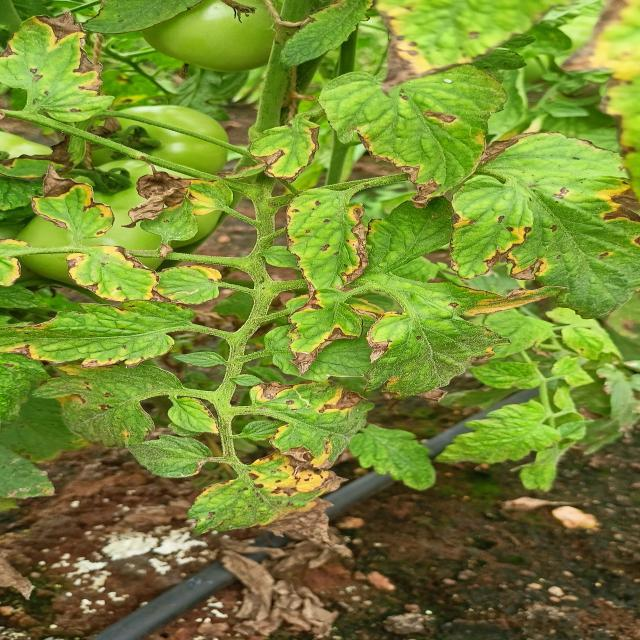Tomato mosaic virus leaf: (308, 61, 530, 205), (503, 127, 640, 325), (364, 282, 568, 406), (174, 455, 356, 561), (0, 5, 117, 124), (1, 300, 190, 370), (26, 364, 190, 442), (245, 376, 385, 464), (124, 160, 238, 250), (280, 182, 373, 290), (442, 178, 534, 282), (17, 158, 121, 242), (280, 287, 368, 377), (60, 242, 166, 305), (243, 113, 322, 188)
